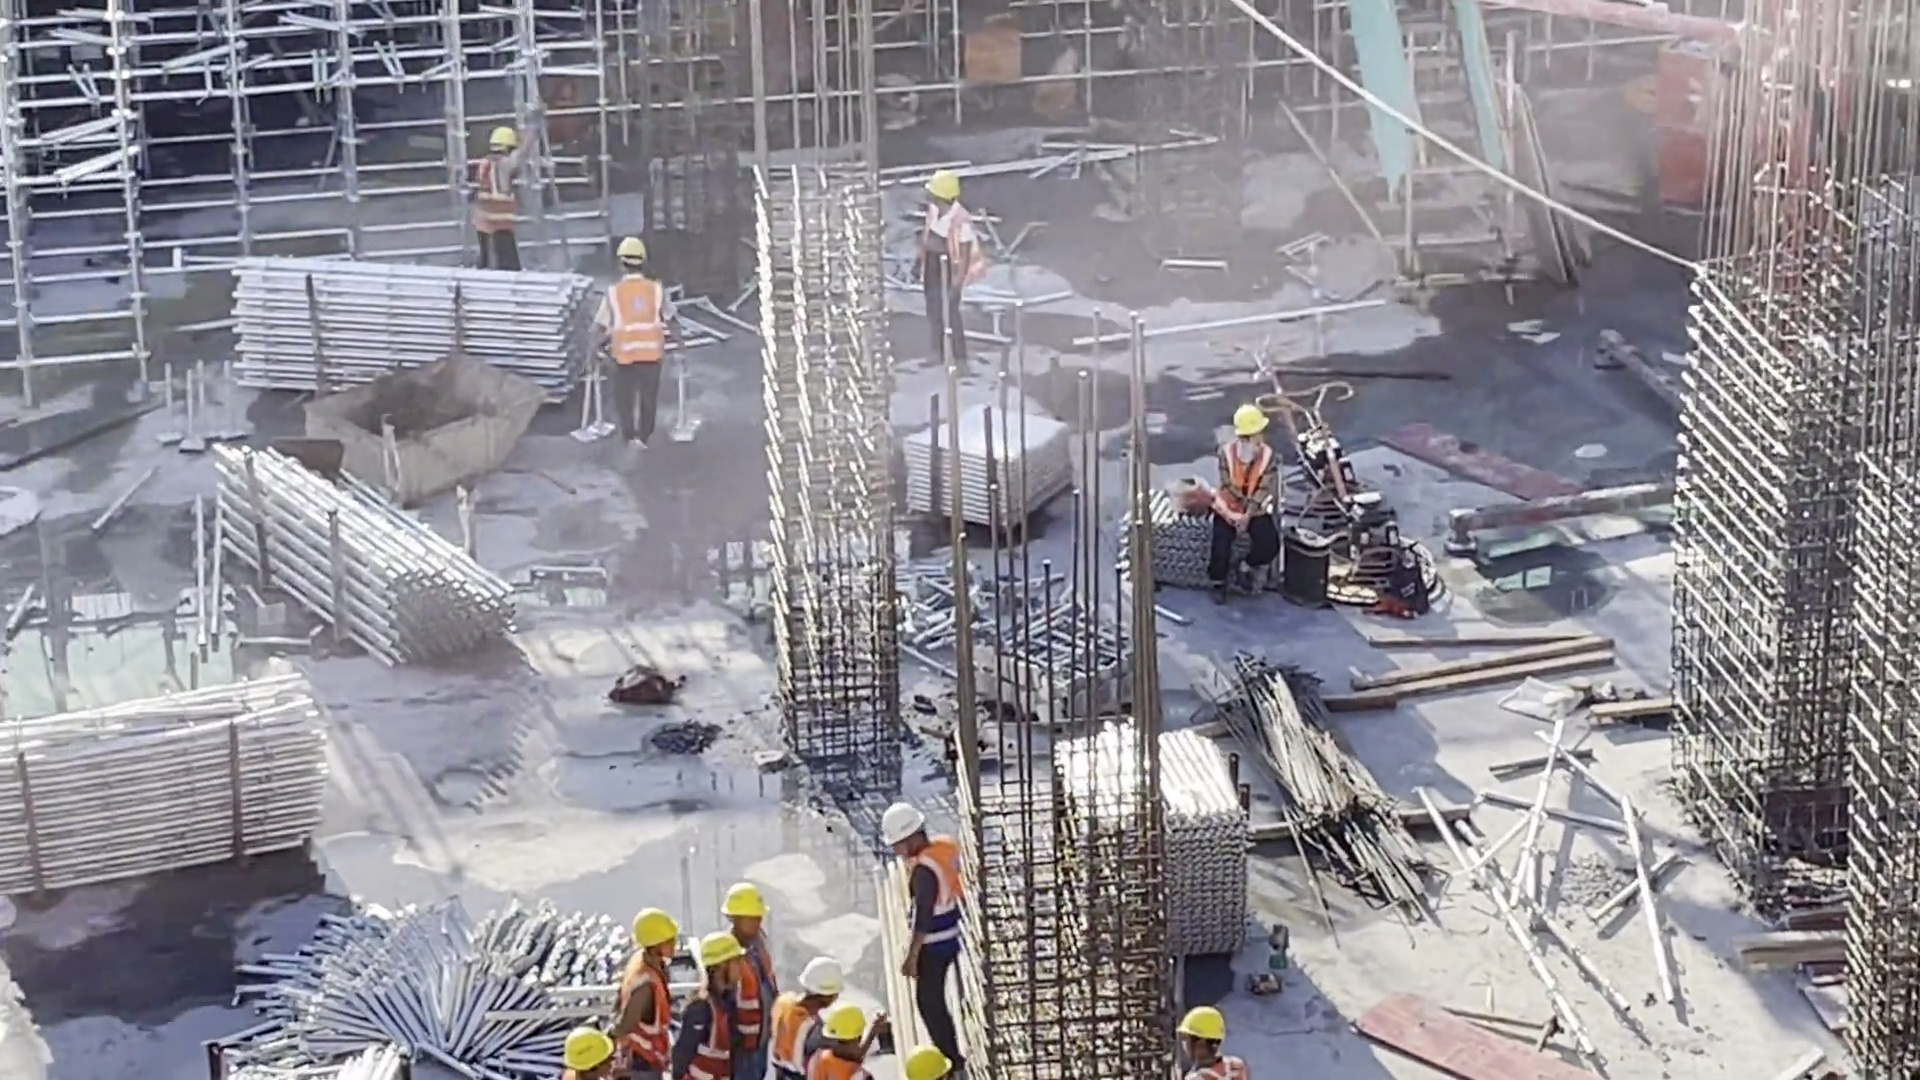helmet: (504, 131, 551, 194), (801, 961, 853, 1016), (641, 912, 693, 967), (889, 806, 936, 856), (1178, 1011, 1226, 1059), (706, 944, 753, 991), (569, 1021, 608, 1076), (1226, 409, 1281, 446), (929, 162, 958, 229), (609, 224, 641, 274), (731, 899, 774, 934), (828, 1009, 868, 1046), (909, 1049, 940, 1080), (564, 1016, 569, 1019)
person: (878, 792, 979, 1062), (886, 806, 983, 1060), (894, 166, 968, 373), (603, 240, 669, 440), (1206, 408, 1279, 588), (603, 910, 668, 1055), (466, 135, 521, 298), (688, 935, 731, 1080), (784, 963, 826, 1065), (1168, 990, 1213, 1080), (726, 878, 789, 936), (821, 1008, 864, 1080), (564, 1016, 606, 1080), (916, 1053, 941, 1080)
vest: (1208, 432, 1273, 516), (613, 294, 686, 367), (924, 207, 984, 292), (741, 942, 784, 1054), (639, 954, 681, 1067), (919, 852, 964, 949), (769, 1002, 813, 1080), (476, 159, 513, 232), (693, 991, 720, 1080), (1191, 1052, 1248, 1080), (818, 1046, 850, 1080)
